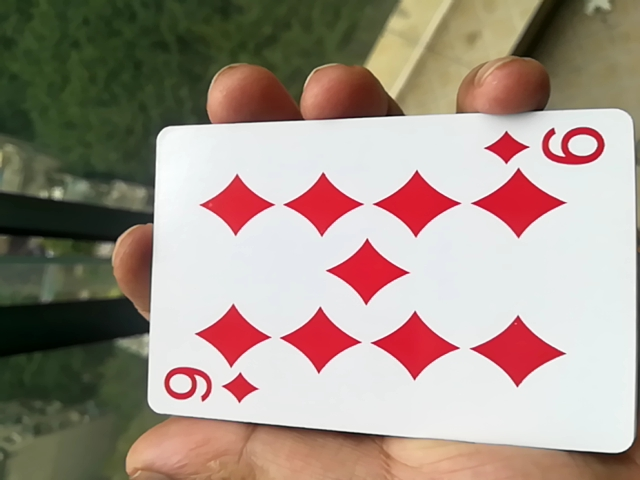fk 9: (130, 114, 638, 456)
